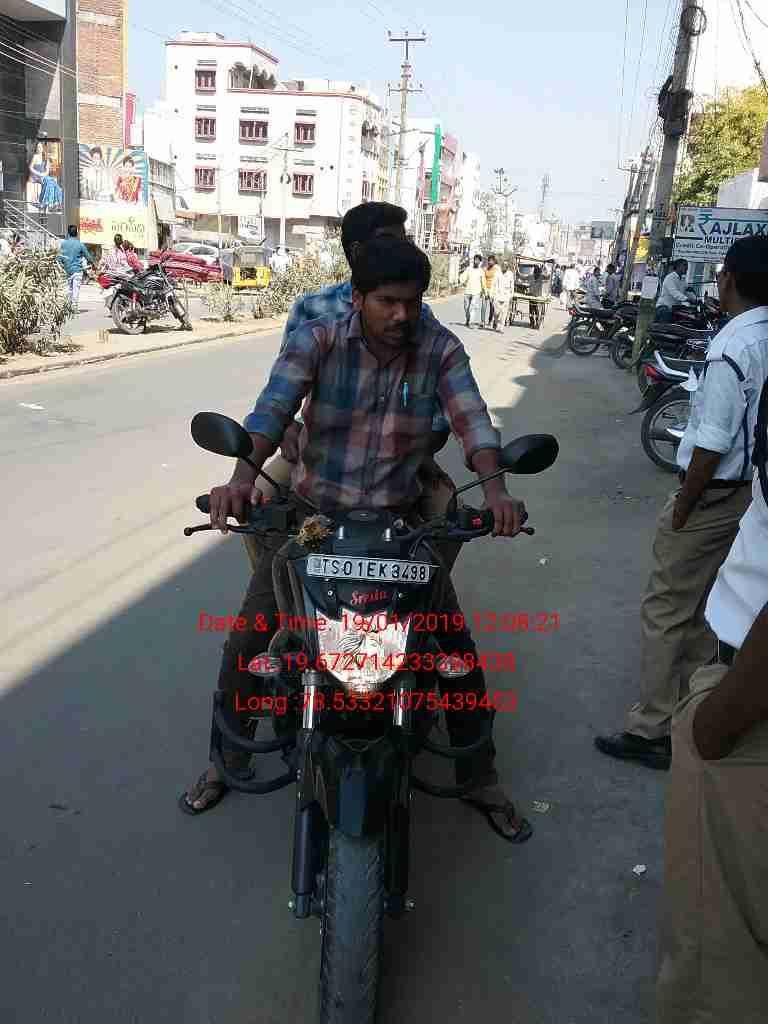plate: (297, 547, 436, 592)
